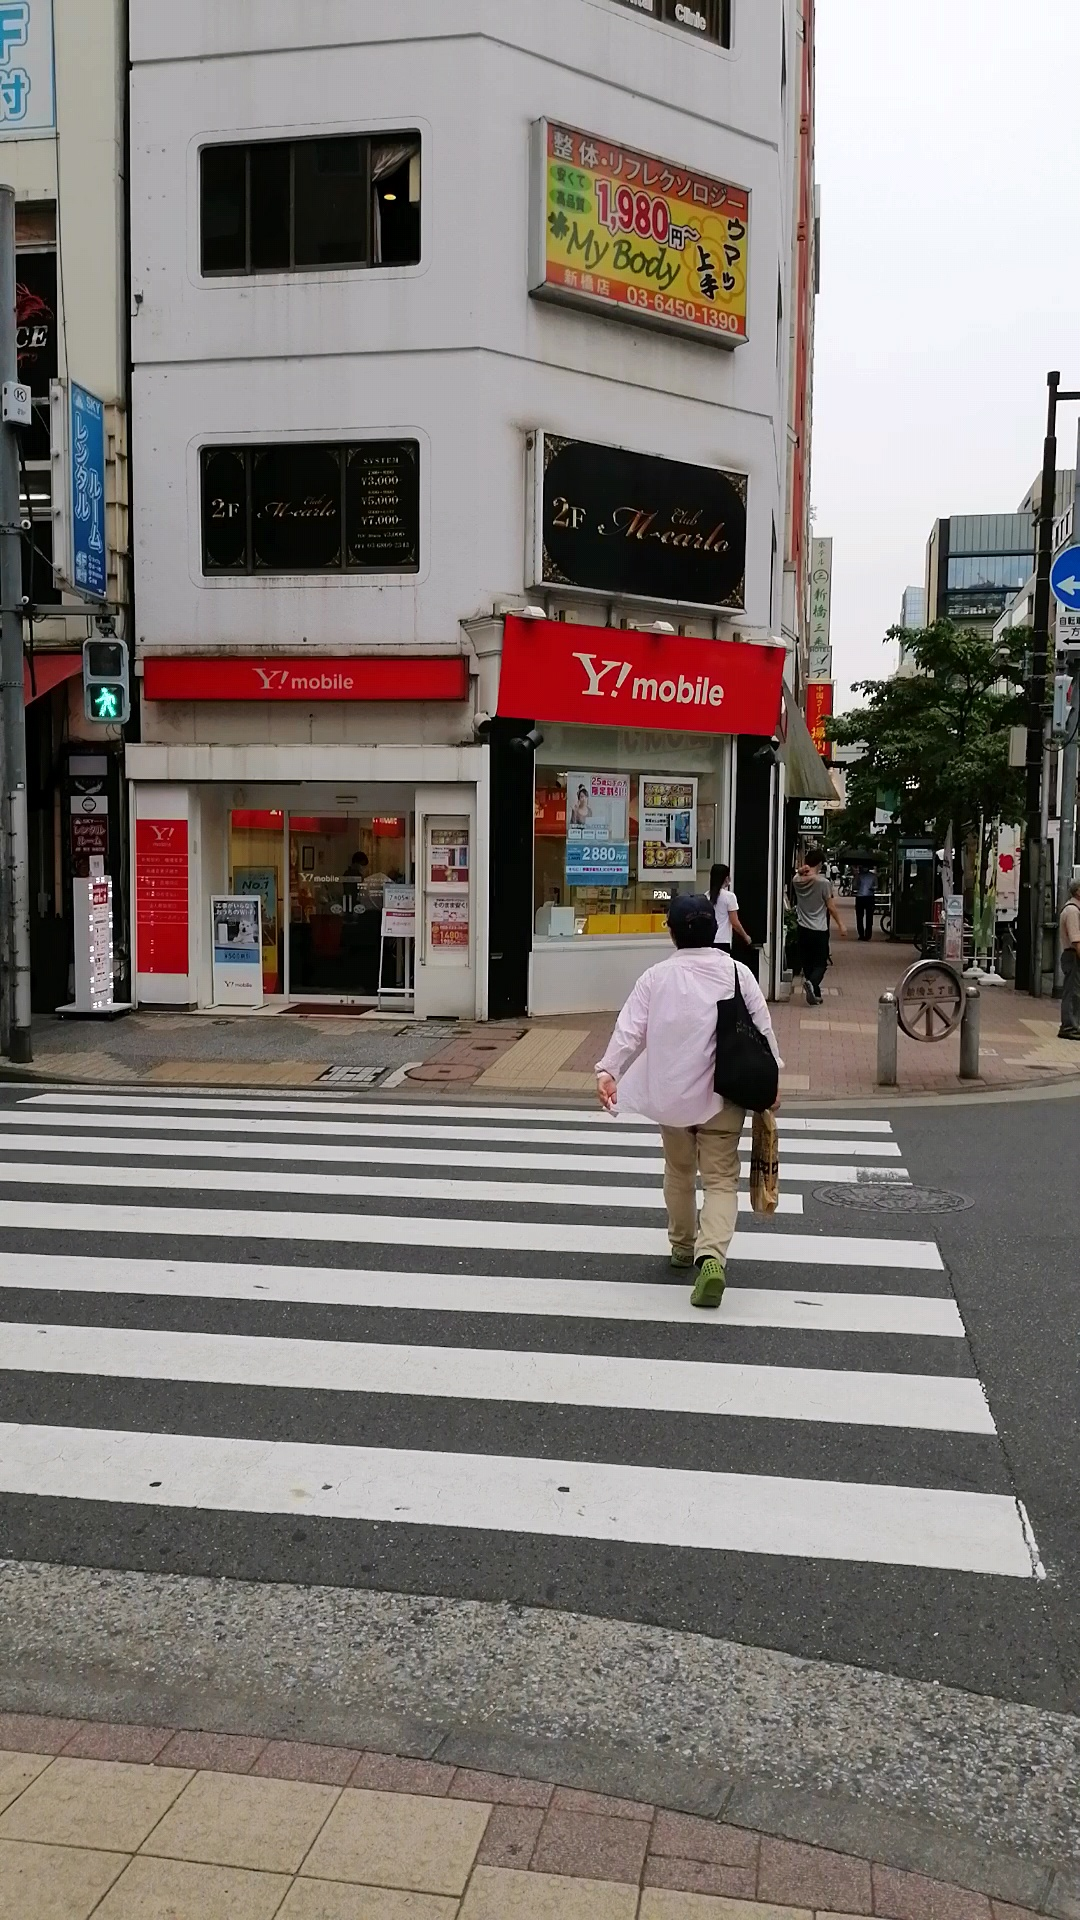green: (82, 636, 131, 727)
